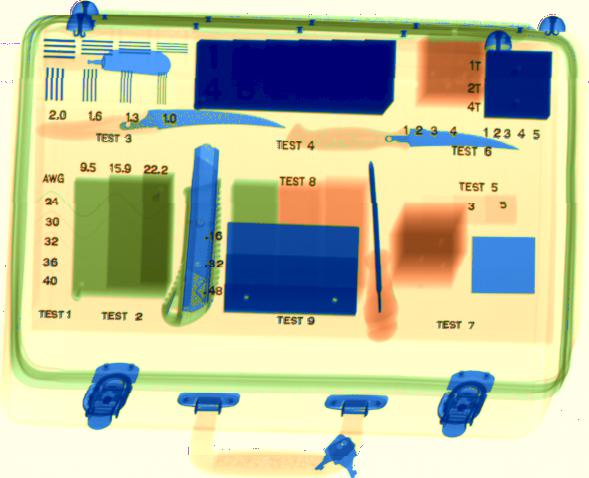Knife: (37, 110, 286, 141), (288, 123, 521, 151), (83, 49, 174, 76)
